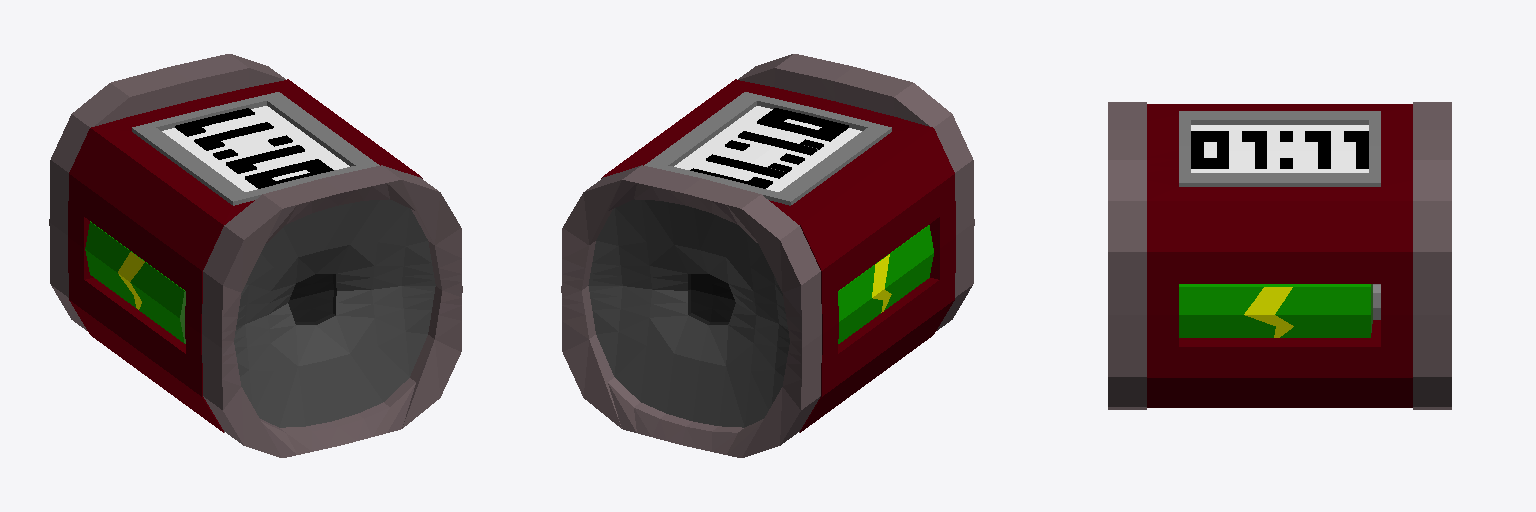
3 views of the same model, side by side, from view 1: azimuth 30°, elevation 25°; view 2: azimuth 150°, elevation 25°; view 3: azimuth 270°, elevation 25° (orthographic).
Parts seen in each view (by area): view 1: Cube; view 2: Cube; view 3: Cube.
Part boxes in pixels (x1,y1,x2,y2): Cube: (49, 54, 462, 457); Cube: (561, 54, 974, 457); Cube: (1108, 102, 1451, 409).
Bounding box in the file's own units: 1.63 × 1.62 × 2.
1 materials, 1 textured.